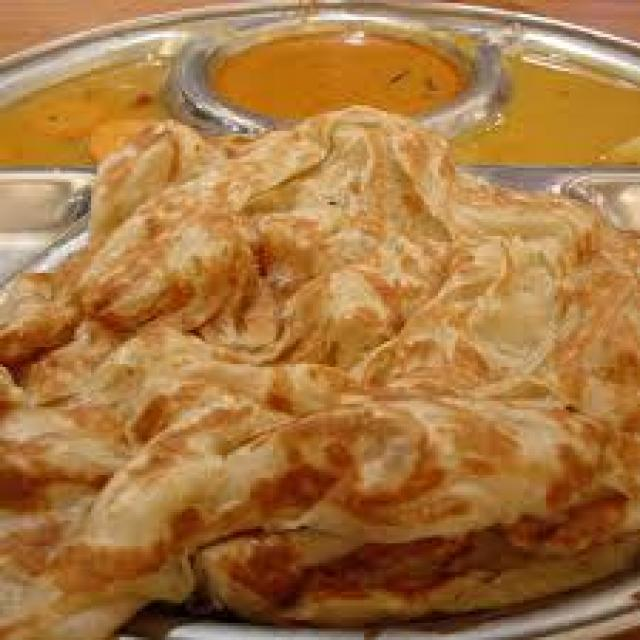Paratha: (14, 42, 640, 639)
